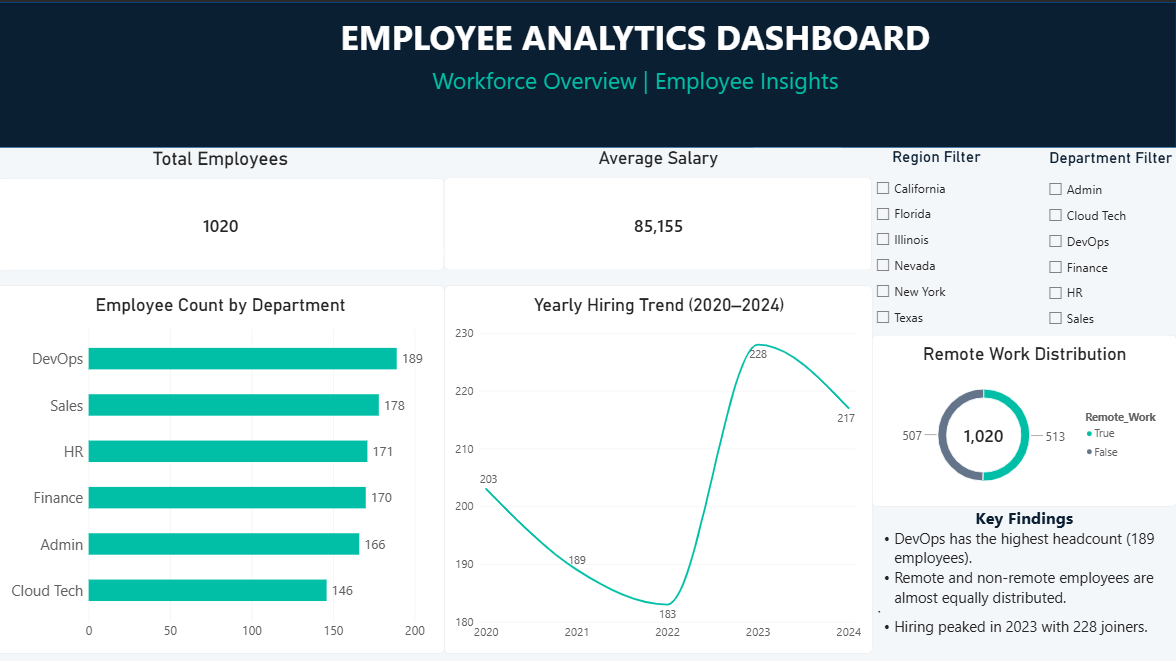

The page's visual inventory and layout, read from the dashboard file:
{"tool":"powerbi","page":{"name":"Employee Overview","canvas":[1920,1080],"ordinal":0},"visuals":[{"type":"shape","box":[0,0,1920,237],"z":0},{"type":"textbox","box":[513.1,16.6,1055.2,182.1],"z":1},{"type":"cardVisual","title":"Total Employees","fields":{"Data":["CountNonNull(SWYNEX_Data_Cleaned.Employee_ID)"]},"box":[0,237,729.1,200.5],"z":2},{"type":"cardVisual","title":"Average Salary","fields":{"Data":["Avg(SWYNEX_Data_Cleaned.Salary)"]},"box":[729.1,237,695.7,200.5],"z":3},{"type":"clusteredBarChart","title":"Employee Count by Department","fields":{"Category":["SWYNEX_Data_Cleaned.Department"],"Y":["CountNonNull(SWYNEX_Data_Cleaned.Employee_ID)"]},"box":[0,461.8,729.1,598.5],"z":4},{"type":"lineChart","title":"Yearly Hiring Trend (2020–2024)","fields":{"Category":["SWYNEX_Data_Cleaned.Join_Date.Variation.Date Hierarchy.Year"],"Y":["CountNonNull(SWYNEX_Data_Cleaned.Employee_ID)"]},"box":[729.1,461.8,695.7,598.5],"z":5},{"type":"donutChart","title":"Remote Work Distribution","fields":{"Category":["SWYNEX_Data_Cleaned.Remote_Work"],"Y":["CountNonNull(SWYNEX_Data_Cleaned.Employee_ID)"]},"box":[1424.8,540.8,495.2,279.5],"z":6},{"type":"slicer","title":"Department Filter","fields":{"Values":["SWYNEX_Data_Cleaned.Department"]},"box":[1704.3,240,215.7,303.8],"z":7},{"type":"slicer","title":"Region Filter","fields":{"Values":["SWYNEX_Data_Cleaned.Region"]},"box":[1424.8,237,209.6,343.3],"z":8},{"type":"textbox","box":[1424.8,820.3,495.2,240],"z":9}]}

Visuals, with their boxes in screenshot pixels (x1, y1, x2, y2), scaled from the page's 1920x1080 canvas onto the 1176x661 screenshot:
shape: box(0, 0, 1175, 145)
textbox: box(314, 10, 961, 122)
"Total Employees" cardVisual: box(0, 145, 447, 268)
"Average Salary" cardVisual: box(447, 145, 873, 268)
"Employee Count by Department" clusteredBarChart: box(0, 283, 447, 649)
"Yearly Hiring Trend (2020–2024)" lineChart: box(447, 283, 873, 649)
"Remote Work Distribution" donutChart: box(873, 331, 1175, 502)
"Department Filter" slicer: box(1044, 147, 1175, 333)
"Region Filter" slicer: box(873, 145, 1001, 355)
textbox: box(873, 502, 1175, 649)
